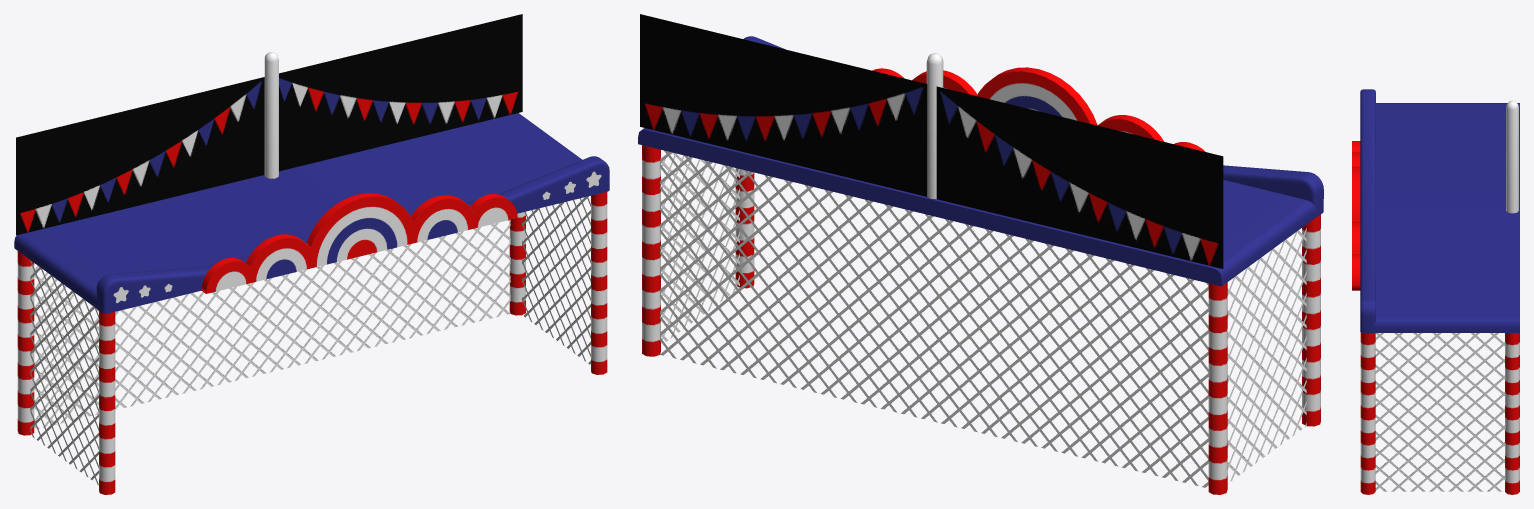
The model's file is arco yankee.FBX.
The picture shows the model from 3 angles, left to right: view 1: azimuth 30°, elevation 25°; view 2: azimuth 150°, elevation 25°; view 3: azimuth 270°, elevation 25°; orthographic projection. The views are drawn at different scales.
Visible parts, largest first — view 1: arco yankee, banderines billboard, red yankee; view 2: banderines billboard, red yankee, arco yankee; view 3: arco yankee, red yankee.
Part boxes in pixels (x1=…): arco yankee: x1=14, y1=52, x2=609, y2=494; banderines billboard: x1=16, y1=14, x2=522, y2=235; red yankee: x1=30, y1=196, x2=590, y2=485; banderines billboard: x1=640, y1=14, x2=1223, y2=268; red yankee: x1=660, y1=150, x2=1306, y2=487; arco yankee: x1=638, y1=36, x2=1323, y2=494; arco yankee: x1=1352, y1=89, x2=1519, y2=494; red yankee: x1=1375, y1=333, x2=1504, y2=491.
Size of the model in its own units: 687 by 414 by 222.
